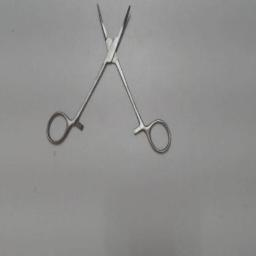Crile Artery Forceps: (40, 1, 176, 157)
